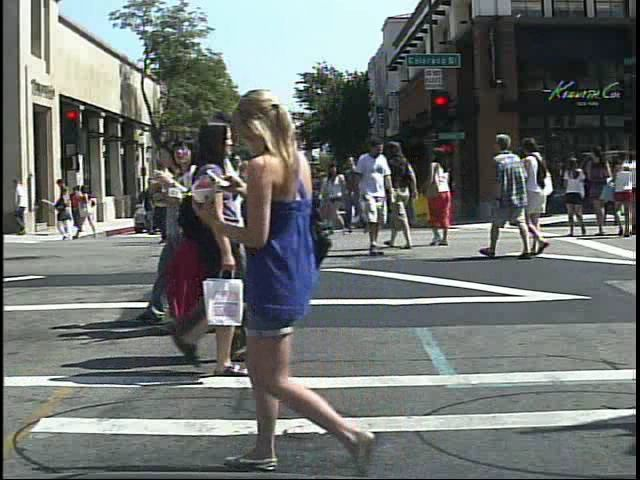person: (208, 75, 392, 477), (147, 134, 253, 342), (172, 120, 249, 381), (214, 104, 287, 366), (145, 131, 190, 333), (487, 127, 526, 262), (210, 141, 252, 260), (521, 133, 560, 261), (251, 150, 294, 261), (422, 144, 465, 253), (355, 134, 392, 260), (257, 148, 300, 250), (217, 151, 255, 252), (187, 154, 225, 251), (392, 138, 423, 253), (561, 149, 593, 240), (162, 172, 183, 241), (68, 182, 88, 232)
